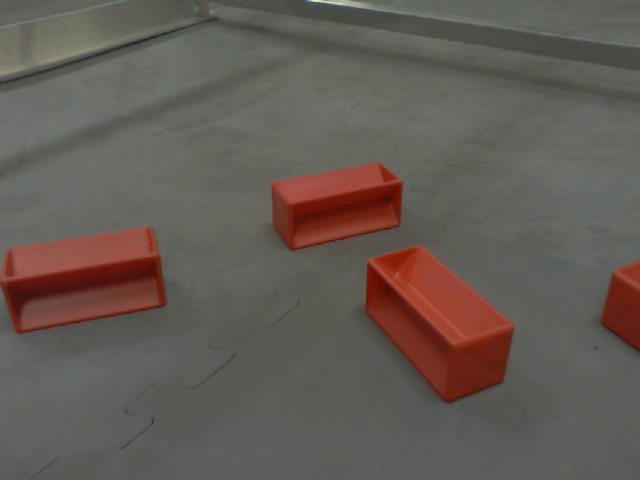RedSample: (367, 243, 515, 403), (2, 220, 170, 337), (266, 163, 404, 250), (596, 257, 640, 353)
